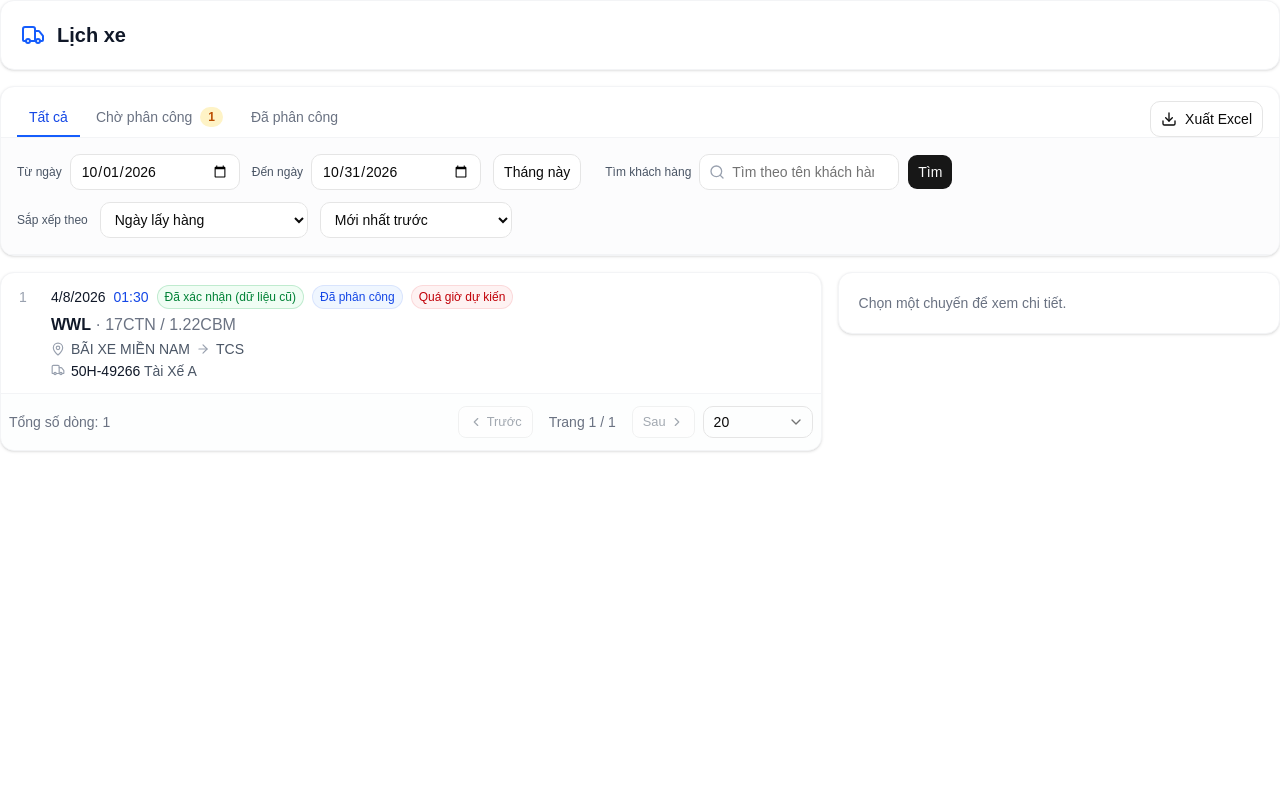
Test: TripSchedulePage › ★ dispatch — the lorries and their drivers (ADR-0004) › ★ says so when the history read fails, instead of showing an empty history
Click the button "WWL". click: (78, 297)
box: x1=19 y1=285 x2=805 y2=381
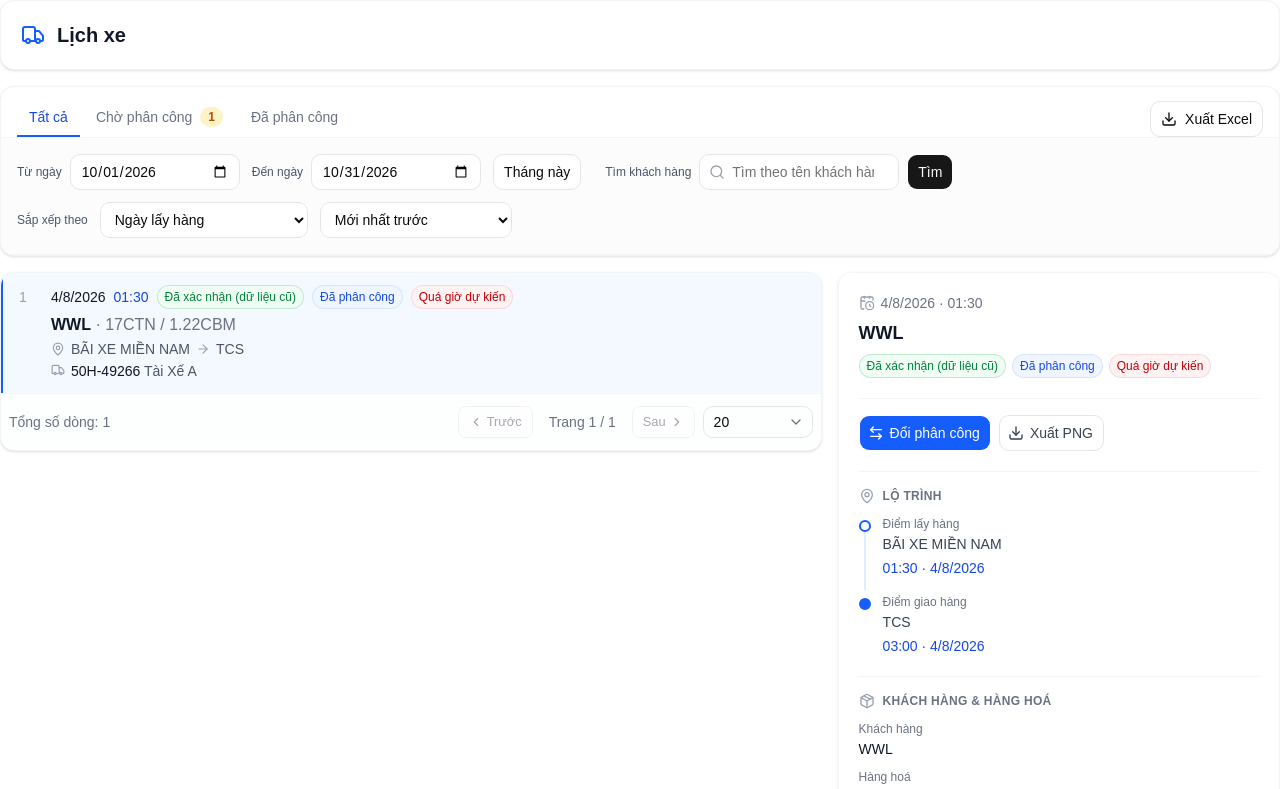
Click the button "Đổi phân công". click: (925, 433)
box: x1=859 y1=415 x2=991 y2=451
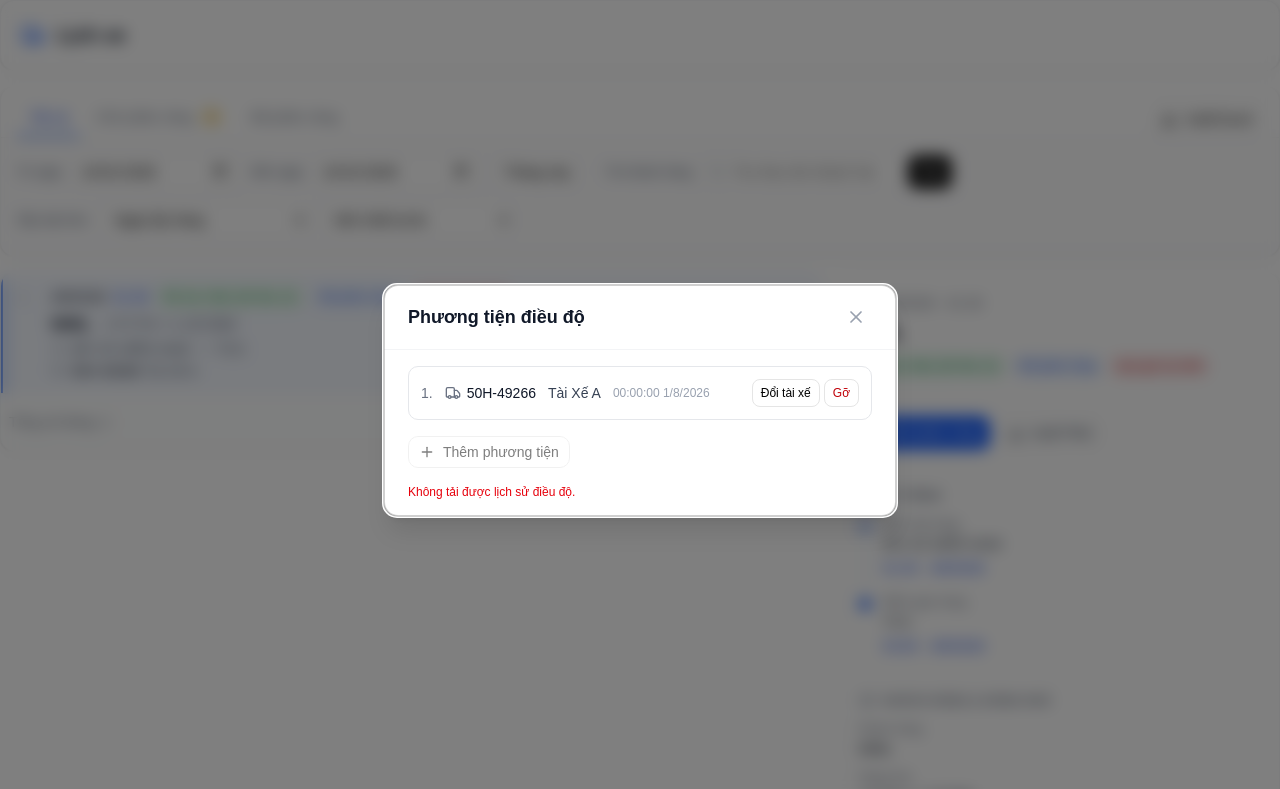
Now the message shows "Không tải được lịch sử", box x1=408 y1=484 x2=575 y2=498
